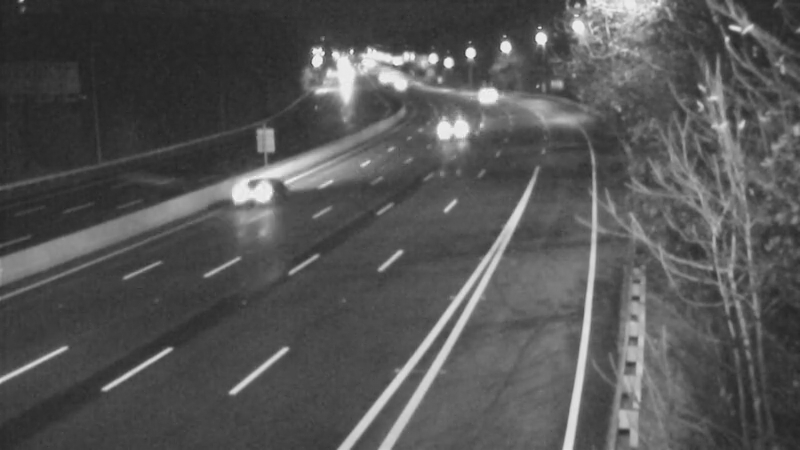vehicle: (211, 150, 291, 230), (356, 55, 406, 105), (378, 58, 428, 108), (460, 67, 510, 117), (431, 104, 481, 154), (322, 56, 372, 106)
